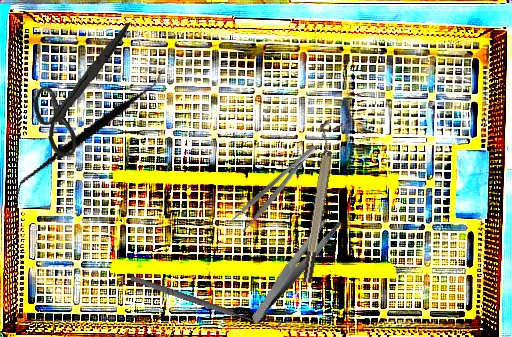Dressing Forceps: (230, 212, 360, 324), (230, 142, 325, 234)
Fixation Ring: (293, 119, 343, 284)
Hook Surgical: (128, 268, 284, 335)
Iris Scissors: (31, 17, 131, 161)
Spatula Surgical: (13, 35, 166, 234)
